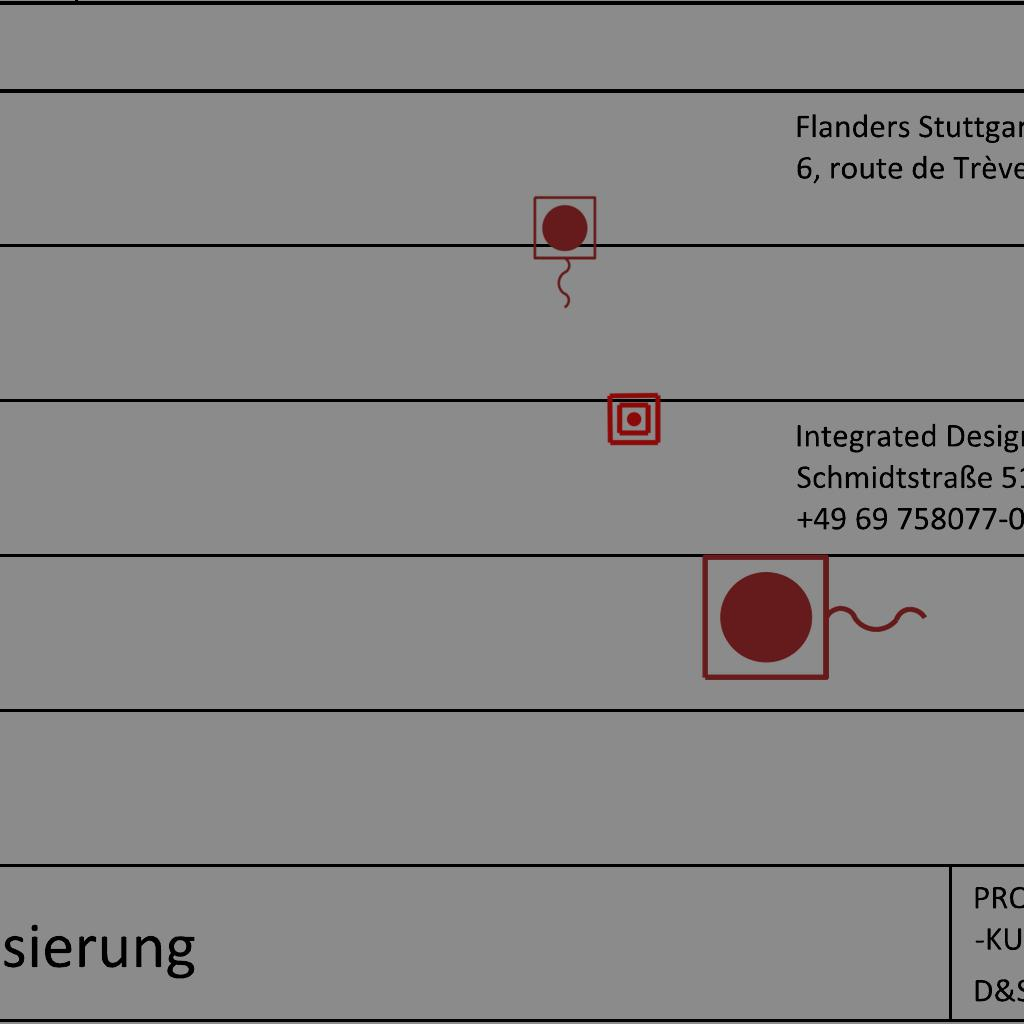NAM-Nichtautomatischer_Melder: (606, 391, 662, 447)
Zugtaster: (694, 547, 938, 691), (528, 192, 600, 314)
